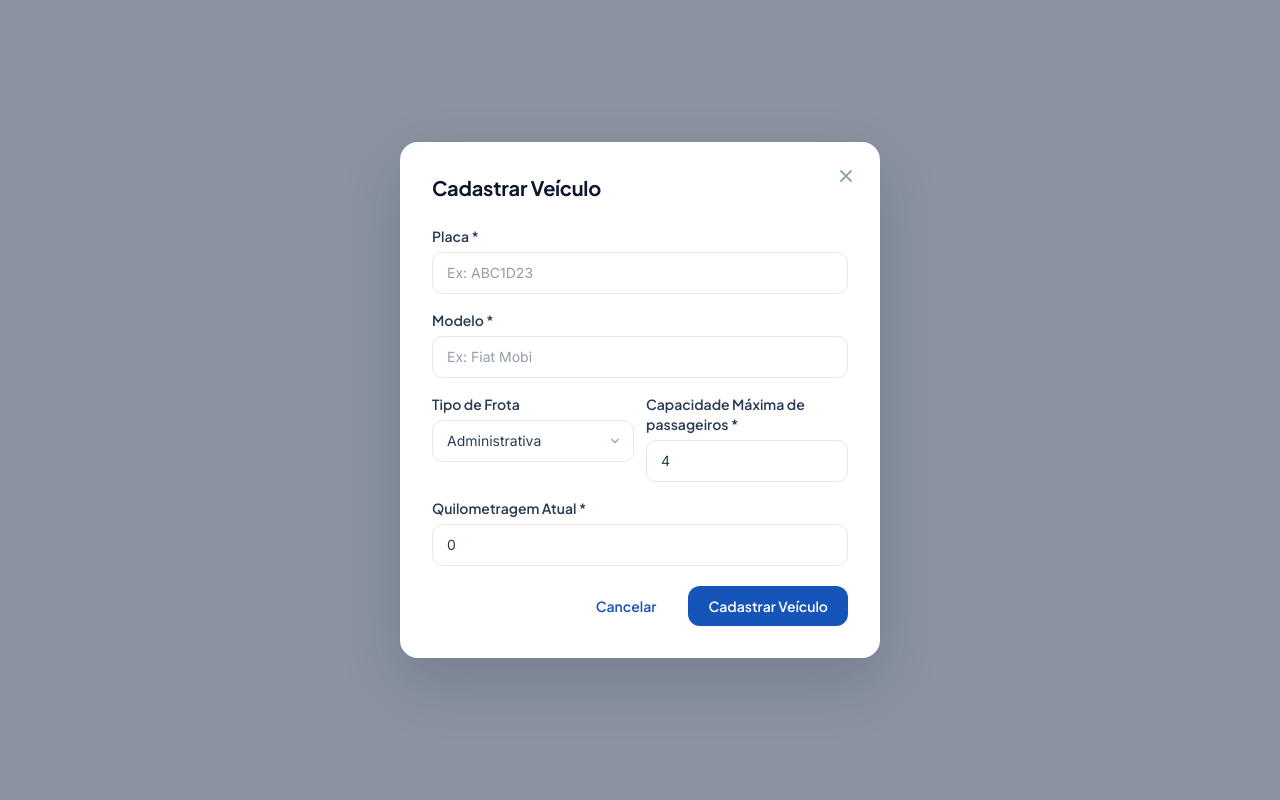
it: ModalVeiculo › deve rejeitar capacidade maior que 4 para frota SVO
In the field labelled "Placa *": (640, 273) [432,252,848,294], type "SVO1234"
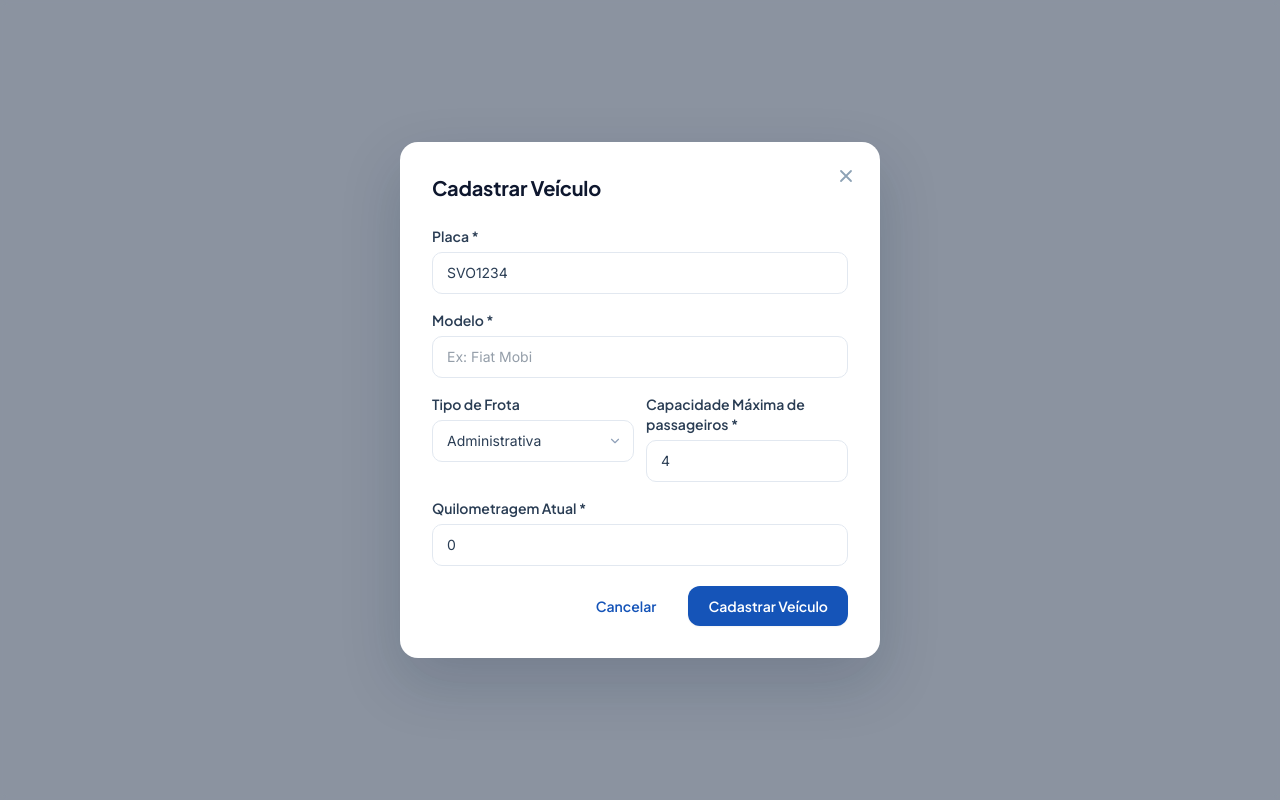
In the field labelled "Modelo *": (640, 357) [432,336,848,378], type "Furgão SVO"
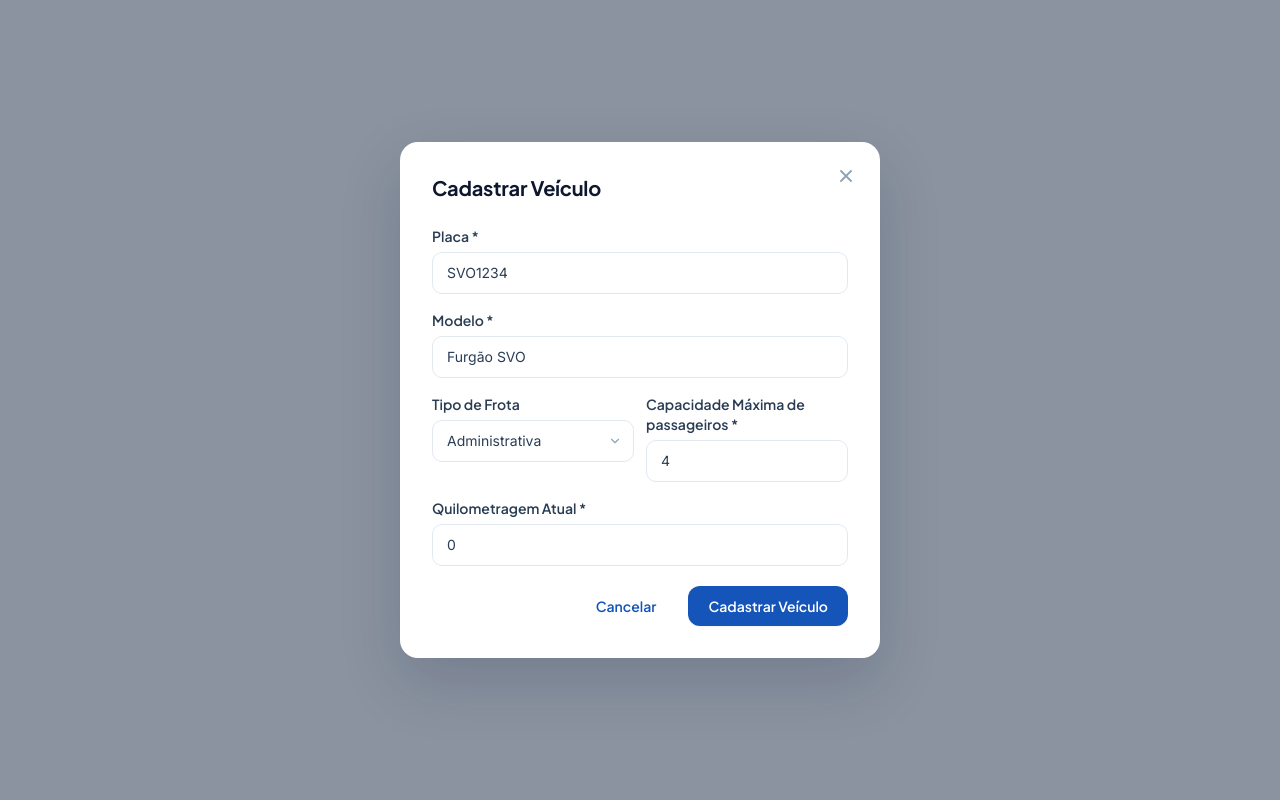
Select "SVO" in the dropdown labelled "Tipo de Frota": (533, 441) [432,420,634,462]
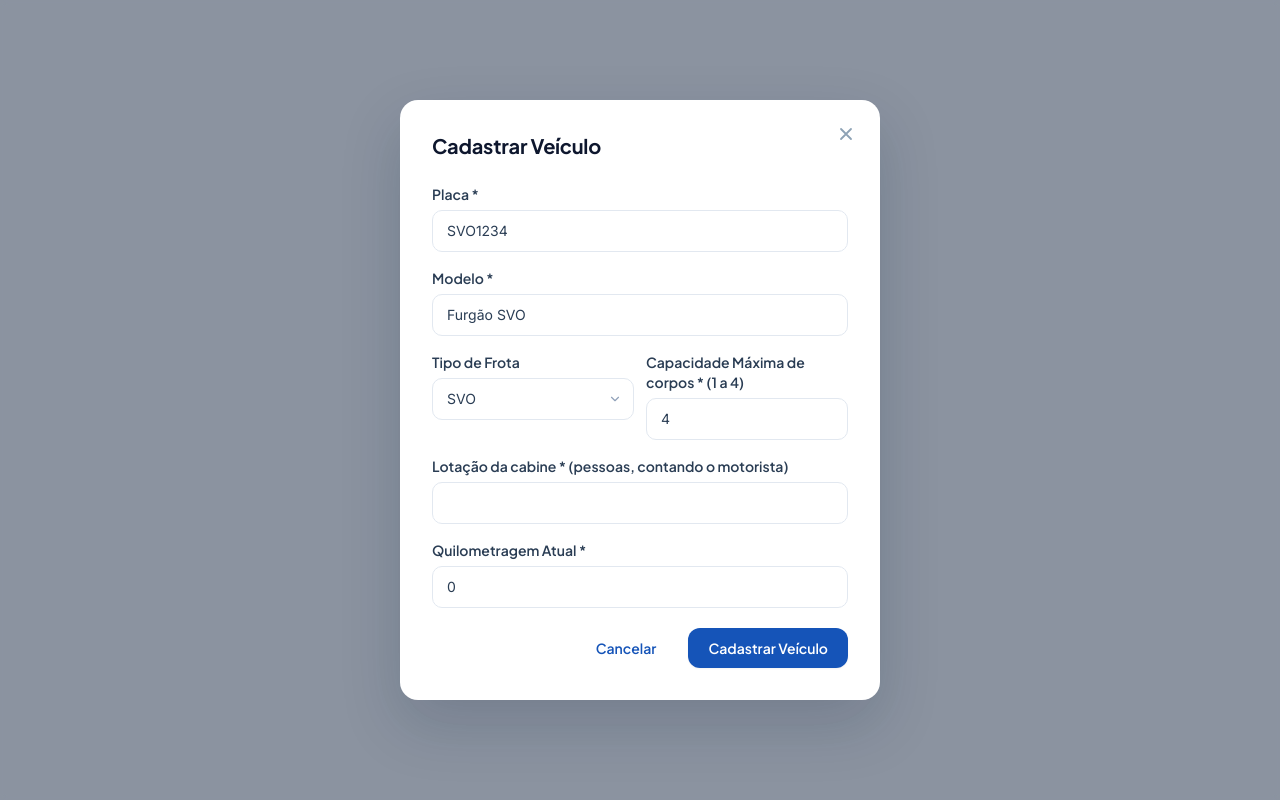
Replace the text in the number field labelled "Capacidade Máxima de corpos * (1 a 4)" with "5": (747, 419) [646,398,848,440]
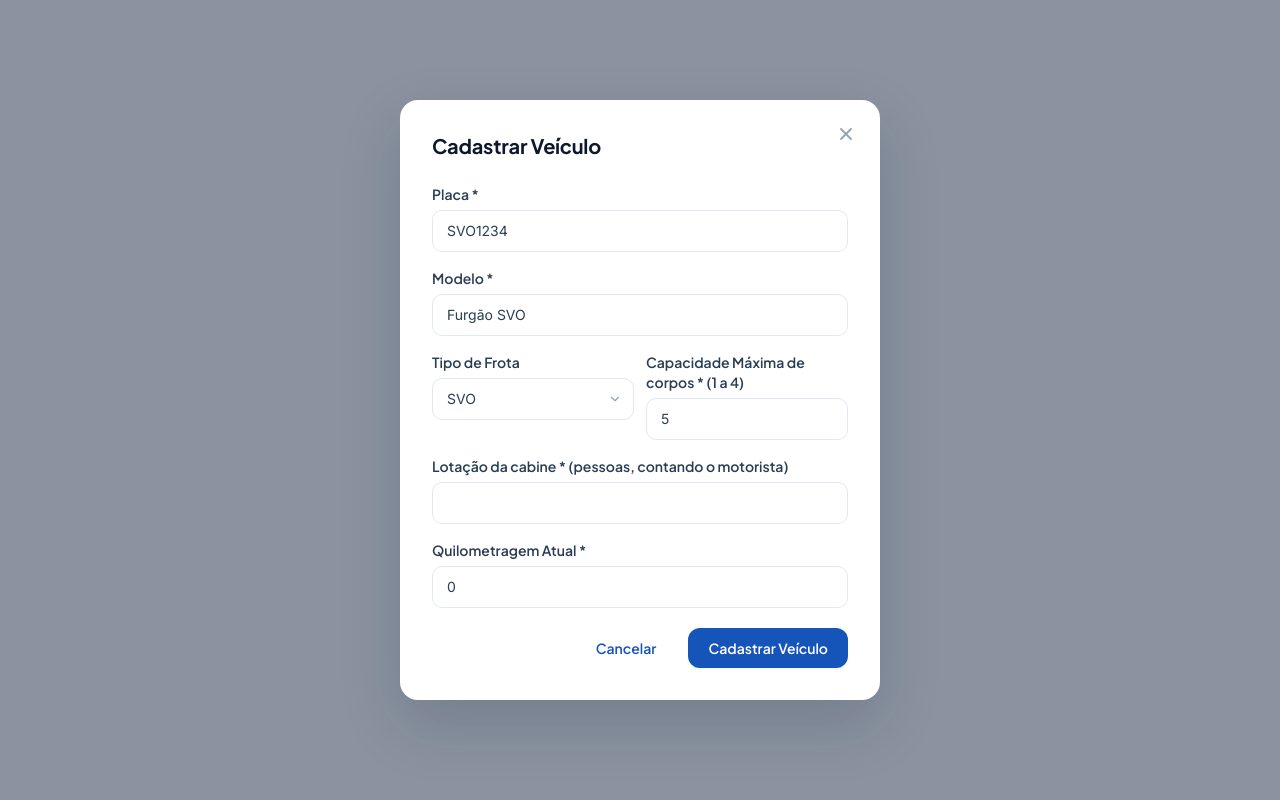
Click the button "Cadastrar Veículo": (768, 648) [688,628,848,668]
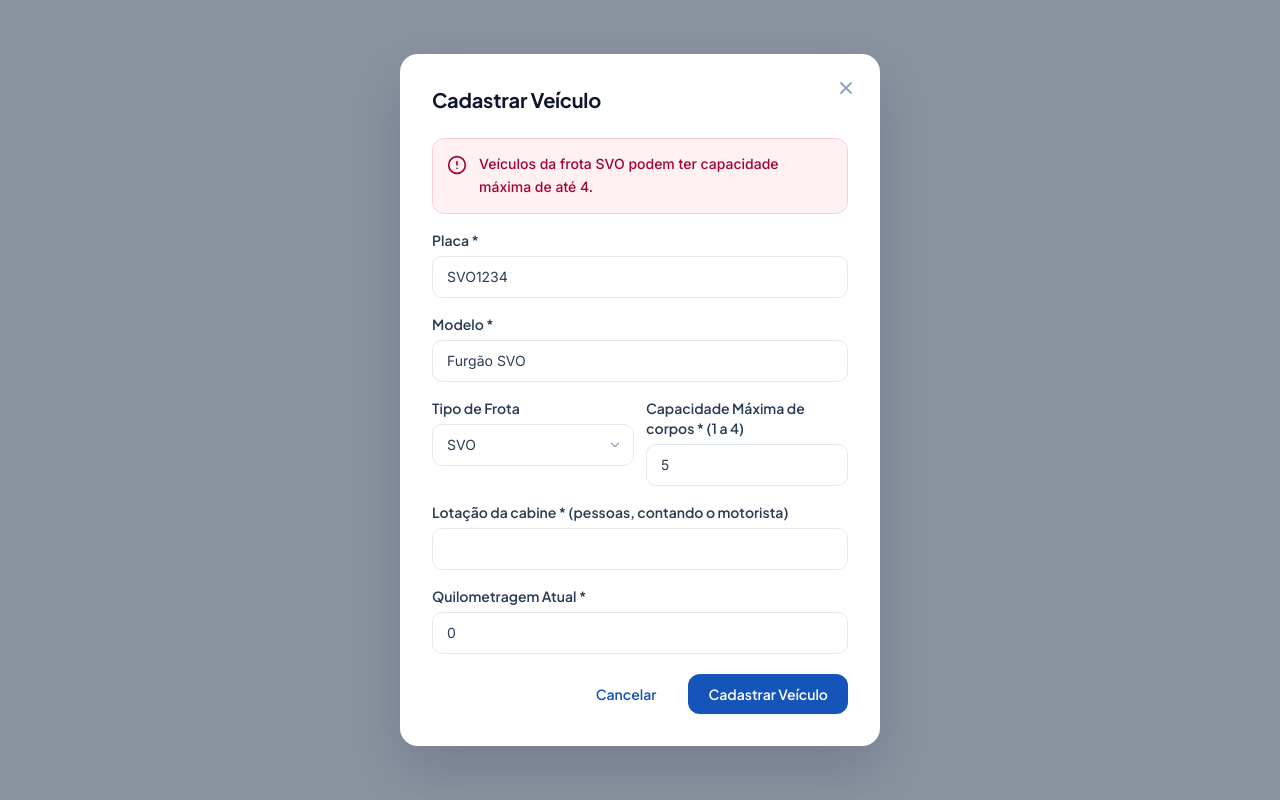
Now the text "Veículos da frota SVO podem ter capacidade máxima de até 4." is shown, box [479,155,778,195]
